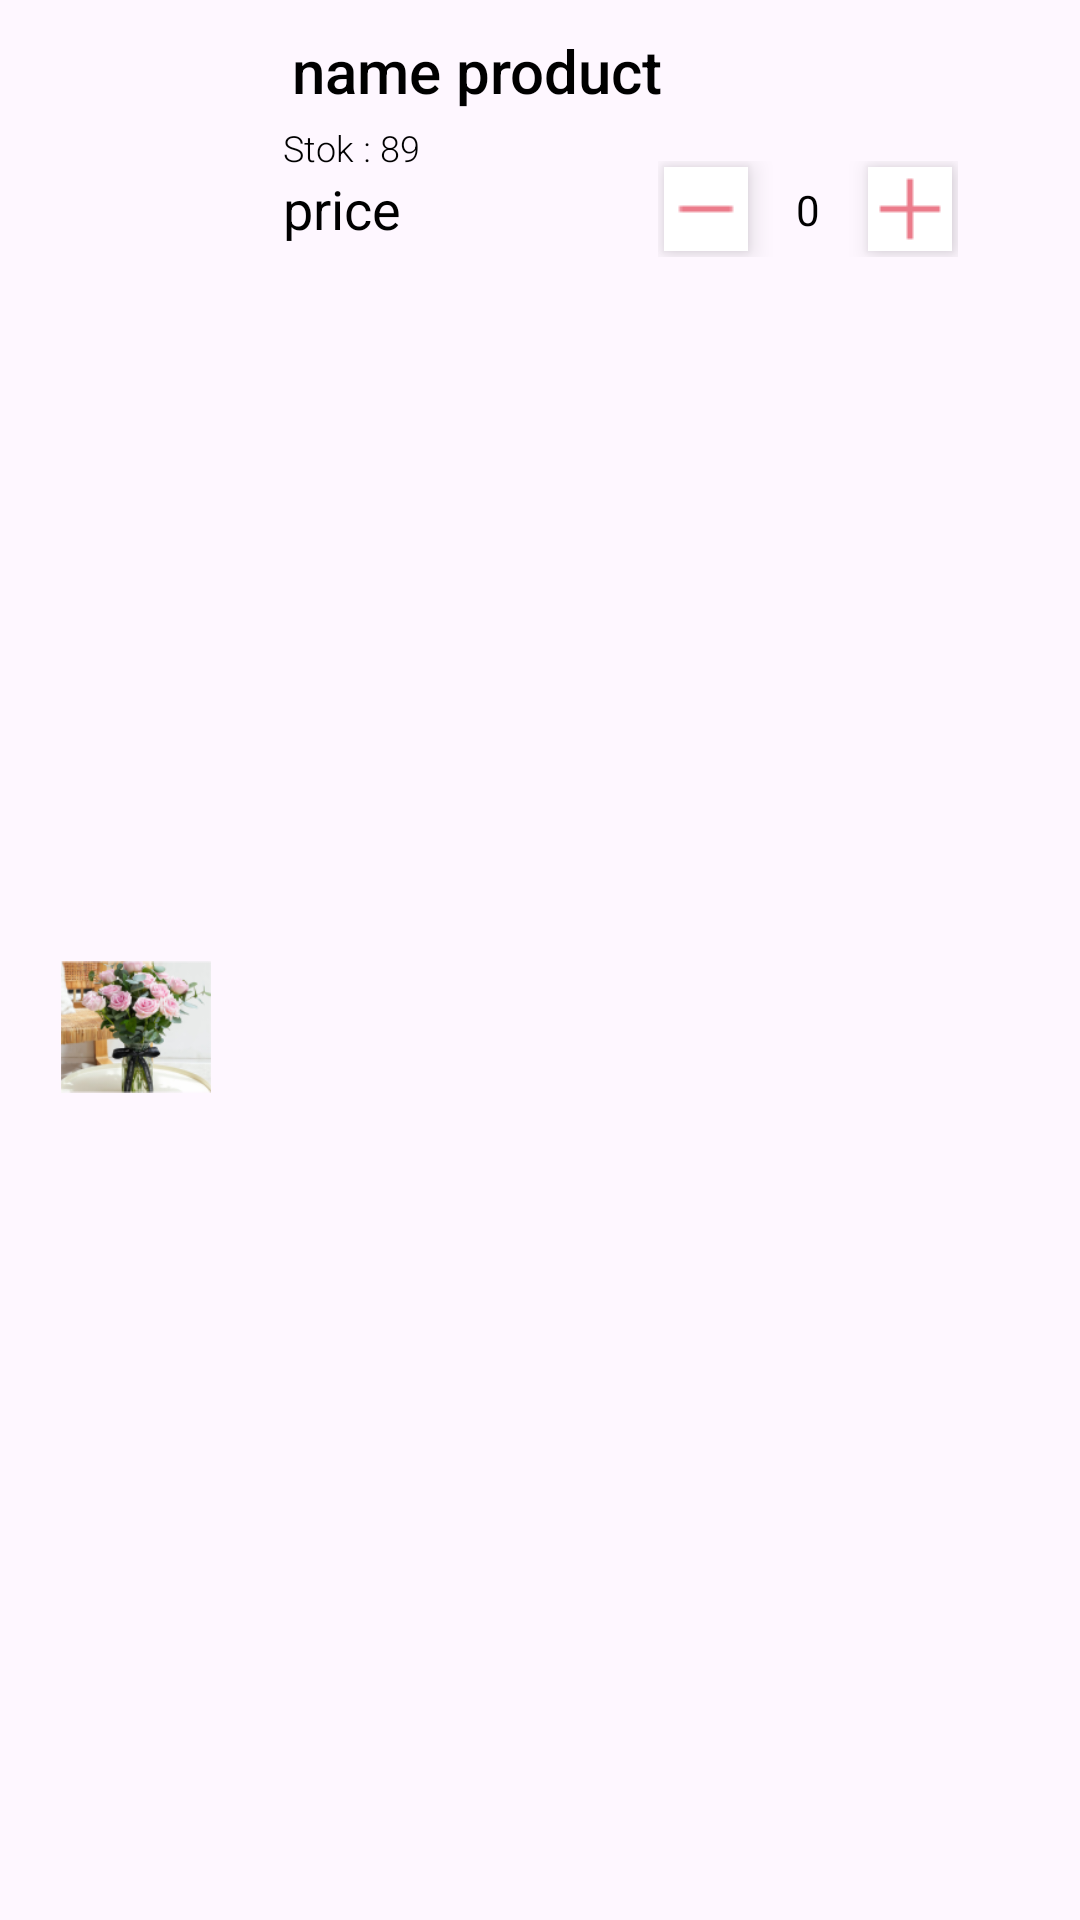

Named icons in this screenshot (1080w x 1920h) and their centers, (x=x, y=y):
minus: (x=706, y=209)
plus: (x=910, y=209)
product: (x=136, y=1027)
